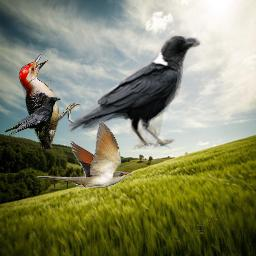Crow: (66, 31, 204, 150), (4, 97, 61, 137)
Cuckoo: (36, 121, 132, 188)
Woodpecker: (19, 53, 82, 149)
